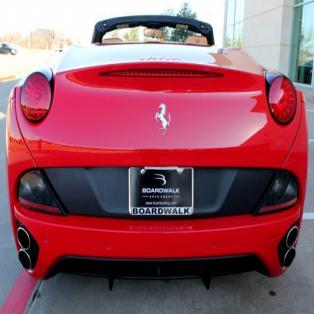Auto: (5, 15, 309, 282)
